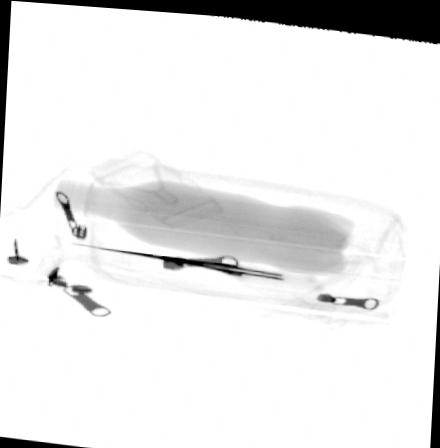Scissors: (72, 244, 341, 294)
